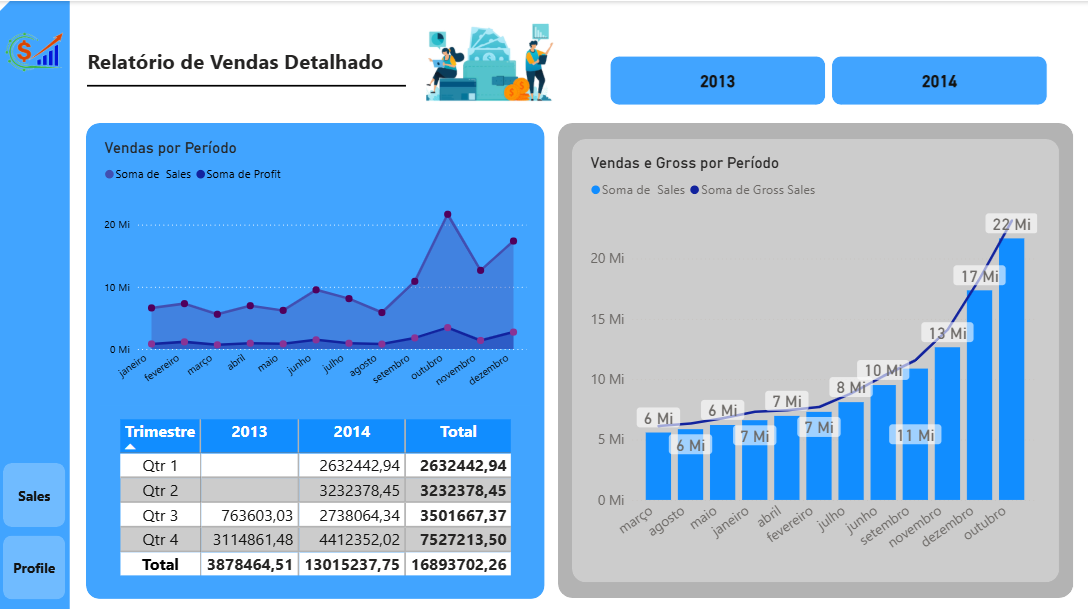

The dashboard page shown, as its layout file describes it:
{"tool":"powerbi","page":{"name":"Report","canvas":[1280,720],"ordinal":2},"visuals":[{"type":"shape","box":[655.3,143.1,604.2,557],"z":0},{"type":"shape","box":[102.2,143.1,537.8,558.2],"z":1000},{"type":"shape","box":[0,0,83.2,719.9],"z":2000},{"type":"image","title":"Logo","box":[0,1.2,83.3,116.1],"z":3000},{"type":"shape","box":[103.5,93.5,374,11.1],"z":4000},{"type":"textbox","box":[99,49.7,378.1,42.2],"z":5000},{"type":"pivotTable","fields":{"Rows":["financials.Date.Variation.Hierarquia de datas.Trimestre"],"Columns":["financials.Date.Variation.Hierarquia de datas.Ano"],"Values":["Sum(financials.Profit)"]},"box":[136.7,485.4,471.4,204.4],"z":6000},{"type":"shape","box":[671.5,161.7,571.5,519.7],"z":7000},{"type":"pageNavigator","box":[4.5,541.3,73.3,160],"z":8000},{"type":"image","box":[496.4,0,158.5,143.6],"z":9000},{"type":"advancedSlicerVisual","fields":{"Values":["financials.Date.Variation.Hierarquia de datas.Ano"]},"box":[712.2,59.2,522.1,67.9],"z":11000},{"type":"areaChart","title":"Vendas por Período","fields":{"Category":["financials.Date.Variation.Hierarquia de datas.Trimestre","financials.Date.Variation.Hierarquia de datas.Mês"],"Y":["Sum(financials. Sales)","Sum(financials.Profit)"]},"box":[118.6,161.9,505.3,312.6],"z":12000},{"type":"lineClusteredColumnComboChart","title":"Vendas e Gross por Período","fields":{"Category":["financials.Date.Variation.Hierarquia de datas.Mês"],"Y":["Sum(financials. Sales)"],"Y2":["Sum(financials.Gross Sales)"]},"box":[688.8,179,534.5,486.3],"z":13500}]}

Visuals, with their boxes in screenshot pixels (x1, y1, x2, y2), scaled from the page's 1280x720 canvas onto the 1088x609 screenshot:
shape: (557,121,1071,592)
shape: (87,121,544,593)
shape: (0,0,71,608)
"Logo" image: (0,1,71,99)
shape: (88,79,406,88)
textbox: (84,42,406,78)
pivotTable - financials.Date.Variation.Hierarquia de datas.Trimestre x financials.Date.Variation.Hierarquia de datas.Ano: (116,411,517,583)
shape: (571,137,1057,576)
pageNavigator: (4,458,66,593)
image: (422,0,557,121)
advancedSlicerVisual - financials.Date.Variation.Hierarquia de datas.Ano: (605,50,1049,108)
"Vendas por Período" areaChart: (101,137,530,401)
"Vendas e Gross por Período" lineClusteredColumnComboChart: (585,151,1040,563)
